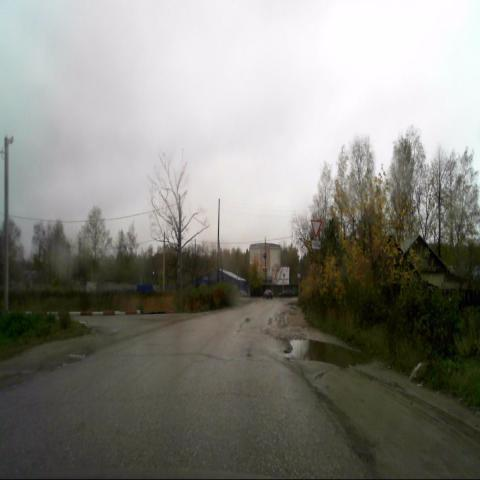2_4: (311, 220, 322, 237)
